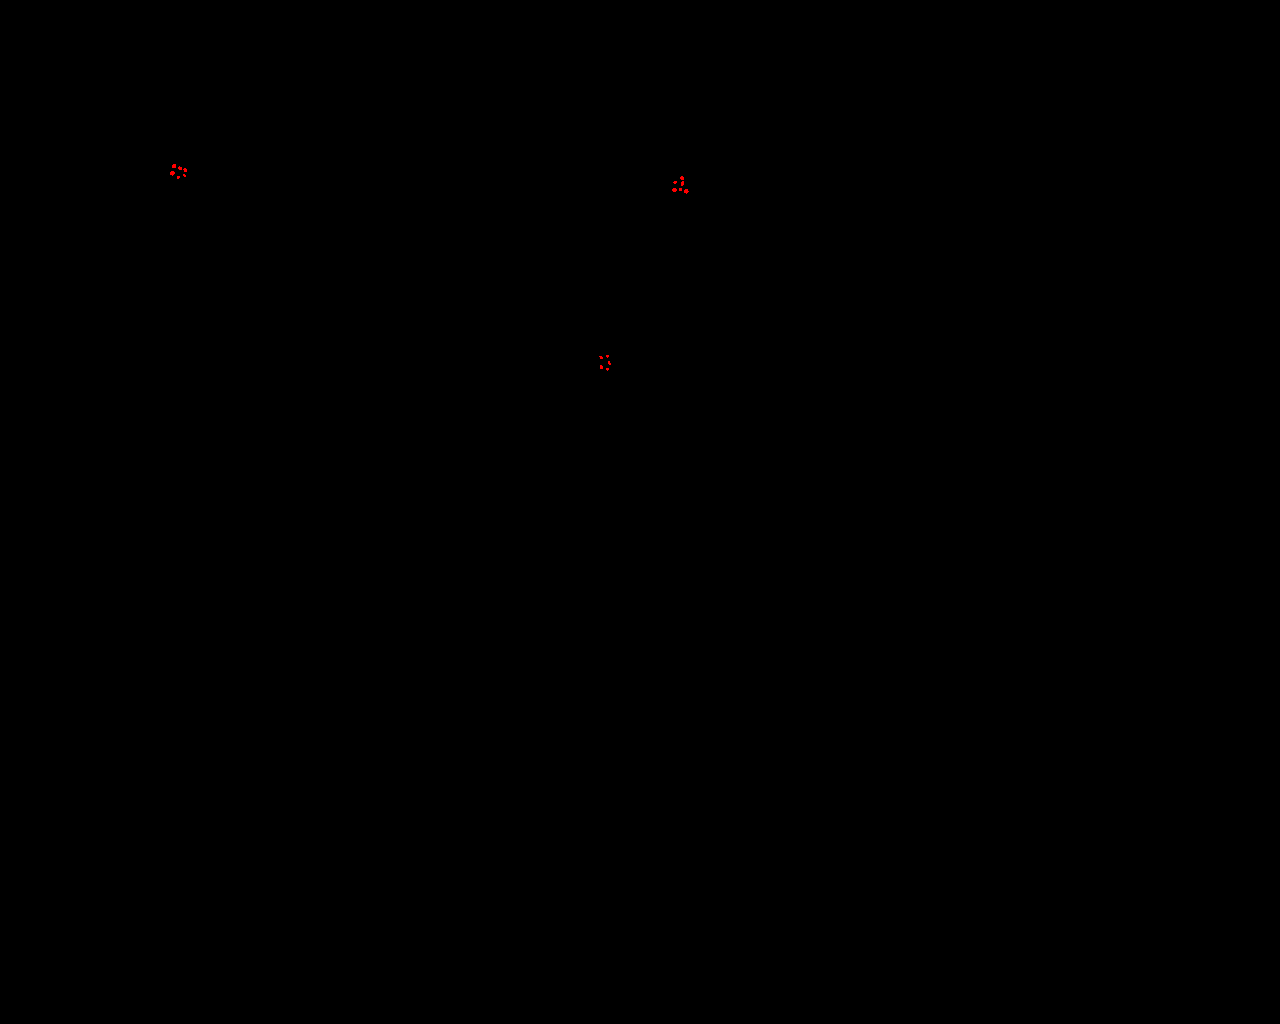Target: (672, 188, 677, 192), (684, 189, 689, 194), (178, 166, 182, 170), (183, 168, 187, 172), (170, 171, 174, 176), (680, 176, 684, 180), (681, 181, 684, 186), (172, 164, 176, 168), (673, 181, 677, 184), (599, 356, 603, 359), (608, 360, 611, 365), (600, 365, 603, 369), (177, 176, 180, 179), (679, 188, 682, 191), (606, 355, 609, 358), (606, 368, 609, 371), (183, 174, 186, 177)
